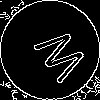W: (25, 25, 90, 90)
